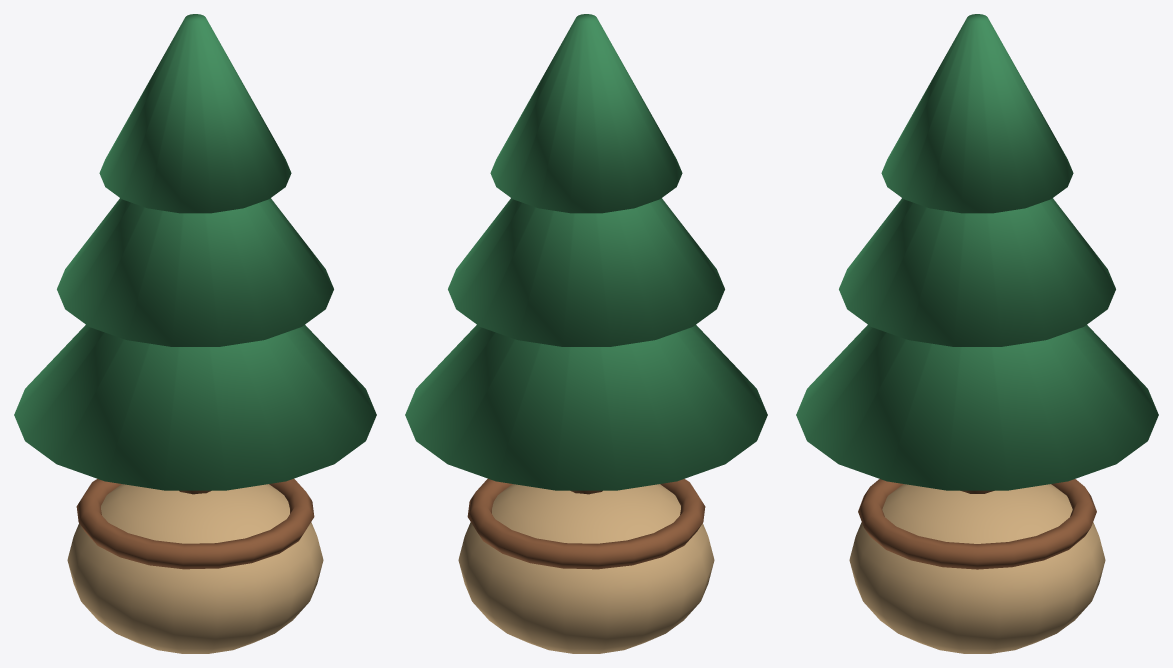
The model's file is seed-cedar-sapling.glb.
The picture shows the model from 3 angles, left to right: view 1: azimuth 30°, elevation 25°; view 2: azimuth 150°, elevation 25°; view 3: azimuth 270°, elevation 25°; orthographic projection.
Visible parts, largest first — view 1: seed; view 2: seed; view 3: seed.
Boxes of the visible parts, bbox=[...] form: seed: bbox=[14, 14, 376, 653]; seed: bbox=[405, 14, 767, 653]; seed: bbox=[796, 14, 1158, 653].
Bounding box in the file's own units: 0.3348 × 0.64 × 0.34.
